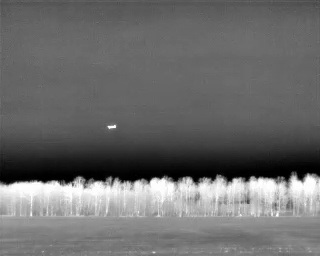DRONE: (103, 119, 122, 135)
